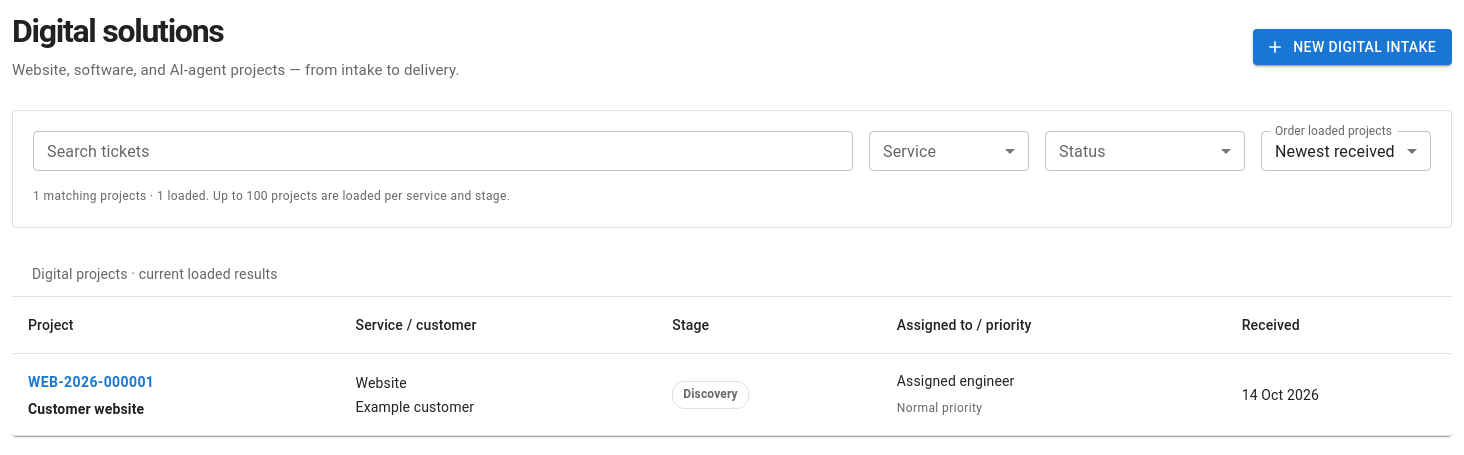
Scenario: digital service workflow › shows all service categories and admin-only intake action
Expected: the text "Customer website" is shown, [28,401,144,417]
Expected: the button "New digital intake" is shown, [1253,29,1452,65]
Press the mouse on the 1st dropdown named "Service" at (949, 151), box [869,131,1029,171]
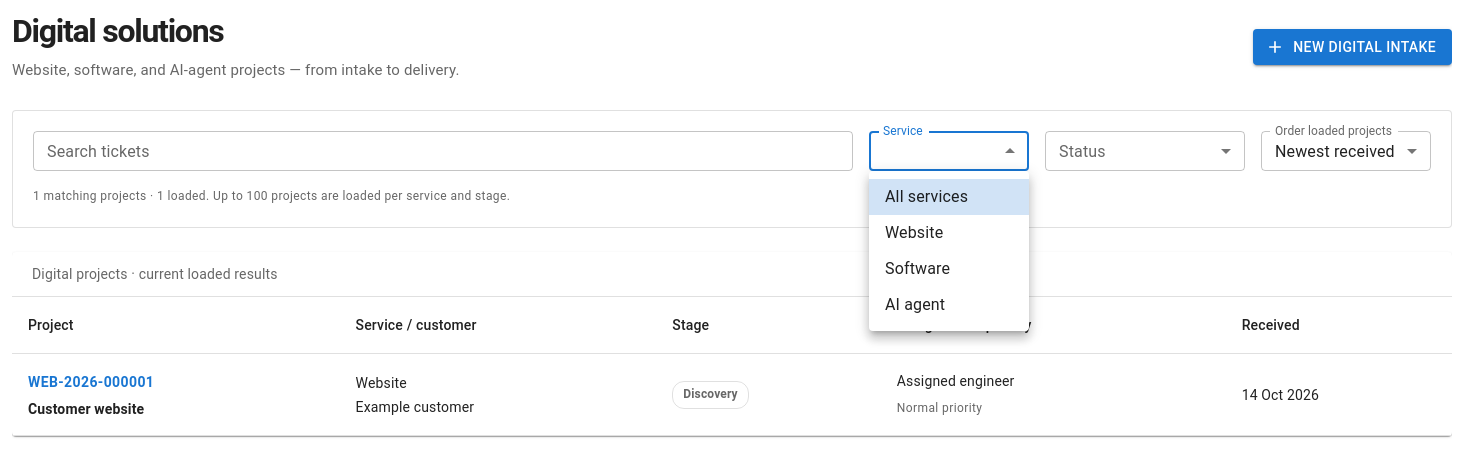
Expected: the option "Website" is shown, [885,223,943,242]
Expected: the option "Software" is shown, [885,259,950,278]
Expected: the option "AI agent" is shown, [885,295,945,314]
